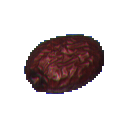gd: (19, 19, 124, 111)
